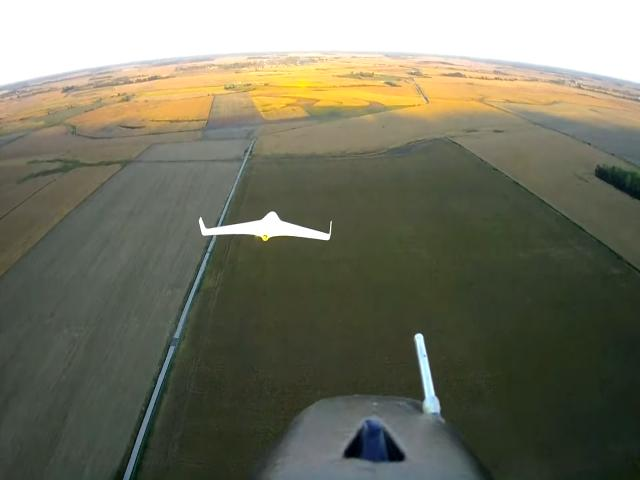plane: (198, 211, 333, 244)
